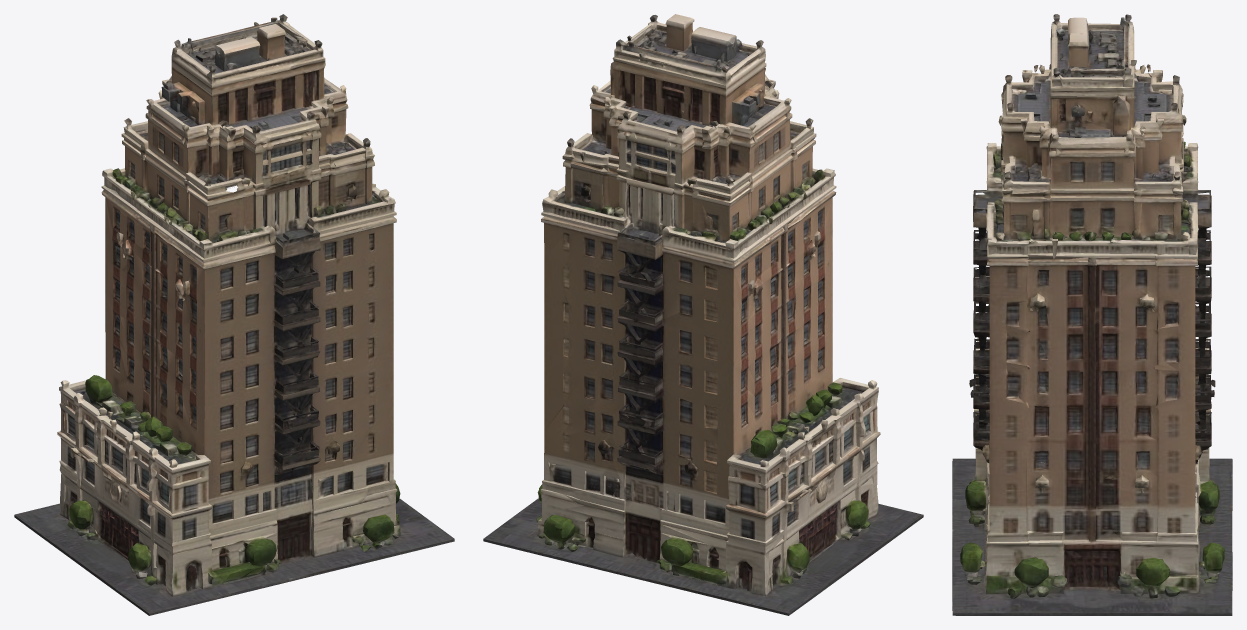
File: bld_hotel.glb
3 views of the same model, side by side, from view 1: azimuth 30°, elevation 25°; view 2: azimuth 150°, elevation 25°; view 3: azimuth 270°, elevation 25° (orthographic). The views are drawn at different scales.
Parts seen in each view (by area): view 1: bld_hotel; view 2: bld_hotel; view 3: bld_hotel.
Boxes of the visible parts, bbox=[...] form: bld_hotel: bbox=[14, 14, 454, 615]; bld_hotel: bbox=[483, 14, 923, 615]; bld_hotel: bbox=[952, 14, 1232, 615].
Bounding box in the file's own units: 1.22 × 1.9 × 0.9327.
Materials: 1 (1 with a texture image).
